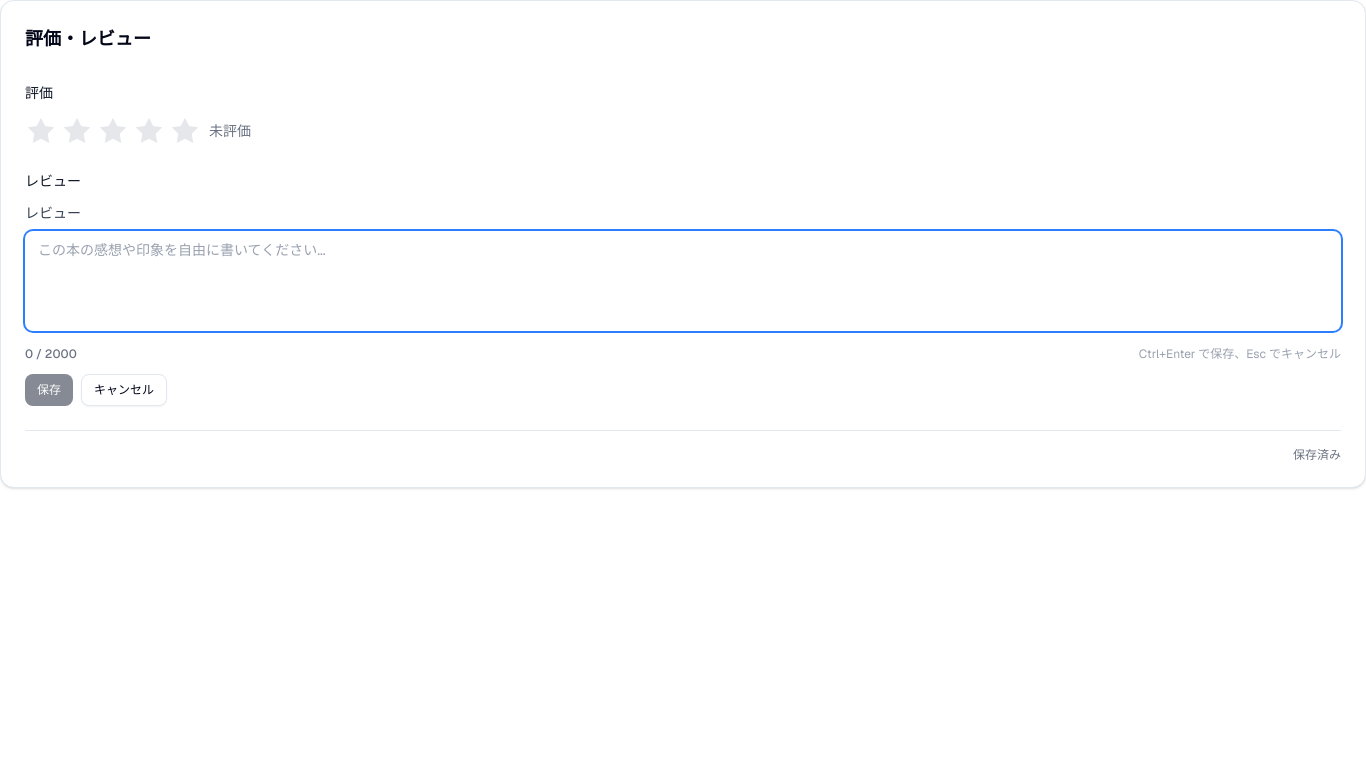
Test: Rating System Integration › BookRatingEditor Integration › should handle server action errors gracefully
Click the radio button named "1星" at (41, 131), box [25,115,57,147]
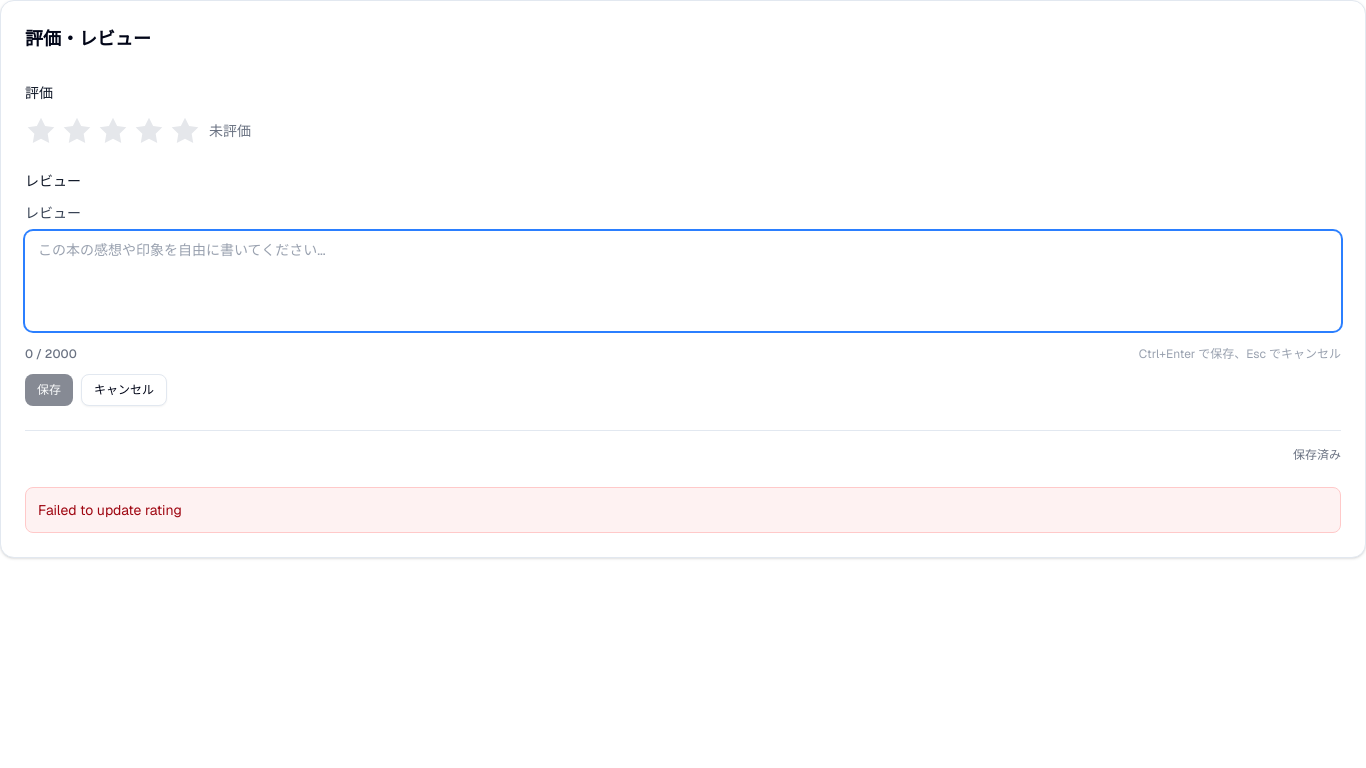
Now the text "Failed to update rating" is shown, box [38,501,182,519]
